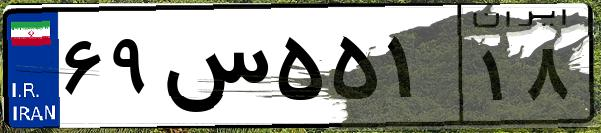1: (385, 28, 445, 110), (475, 38, 525, 113)
5: (270, 28, 330, 110), (330, 28, 385, 110)
6: (57, 26, 110, 100)
8: (525, 38, 570, 115)
9: (110, 28, 158, 98)
س: (158, 20, 270, 120)
